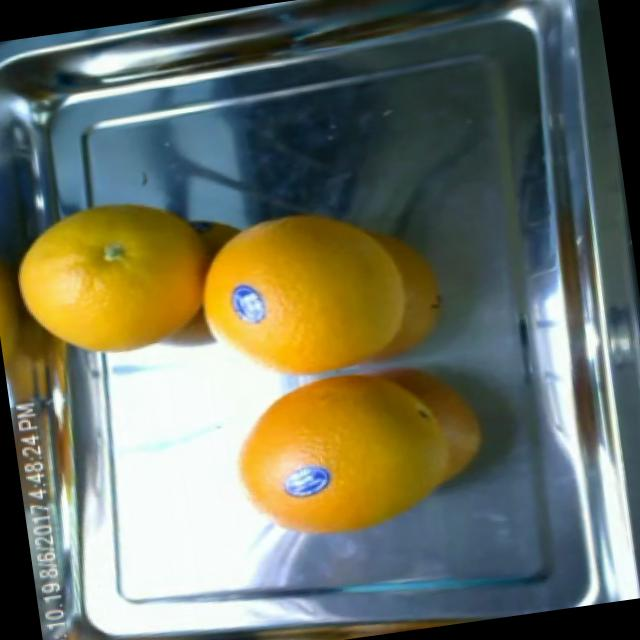Fruit: (269, 452, 341, 508)
